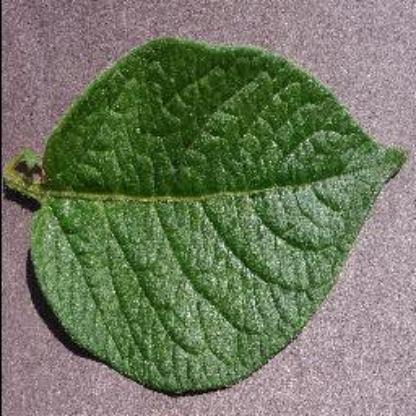Healthy-plant: (6, 30, 406, 401)
